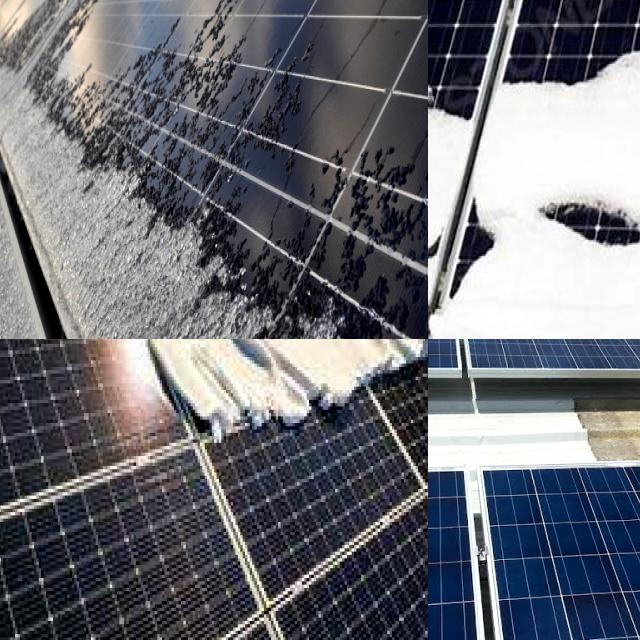crack: (446, 460, 640, 640), (428, 459, 576, 640), (440, 339, 640, 428), (428, 339, 531, 419), (433, 339, 586, 376), (537, 339, 640, 385), (428, 339, 502, 380)
panel: (142, 175, 257, 339), (112, 339, 278, 438), (546, 149, 640, 285), (274, 354, 428, 430), (489, 31, 640, 103), (66, 156, 136, 310), (18, 339, 156, 417), (447, 161, 512, 295), (280, 244, 365, 339), (114, 0, 208, 63), (16, 78, 58, 216), (0, 232, 63, 322), (428, 53, 477, 163), (0, 339, 91, 398), (428, 194, 481, 292), (428, 44, 494, 106), (197, 0, 307, 36), (428, 1, 483, 73), (35, 0, 96, 63), (331, 339, 428, 378), (428, 0, 533, 36), (547, 0, 640, 38), (428, 116, 466, 203), (428, 194, 463, 281), (0, 26, 29, 123), (0, 154, 40, 220), (428, 0, 467, 53), (67, 323, 150, 339), (368, 306, 408, 339), (428, 0, 470, 30), (428, 0, 460, 27)
